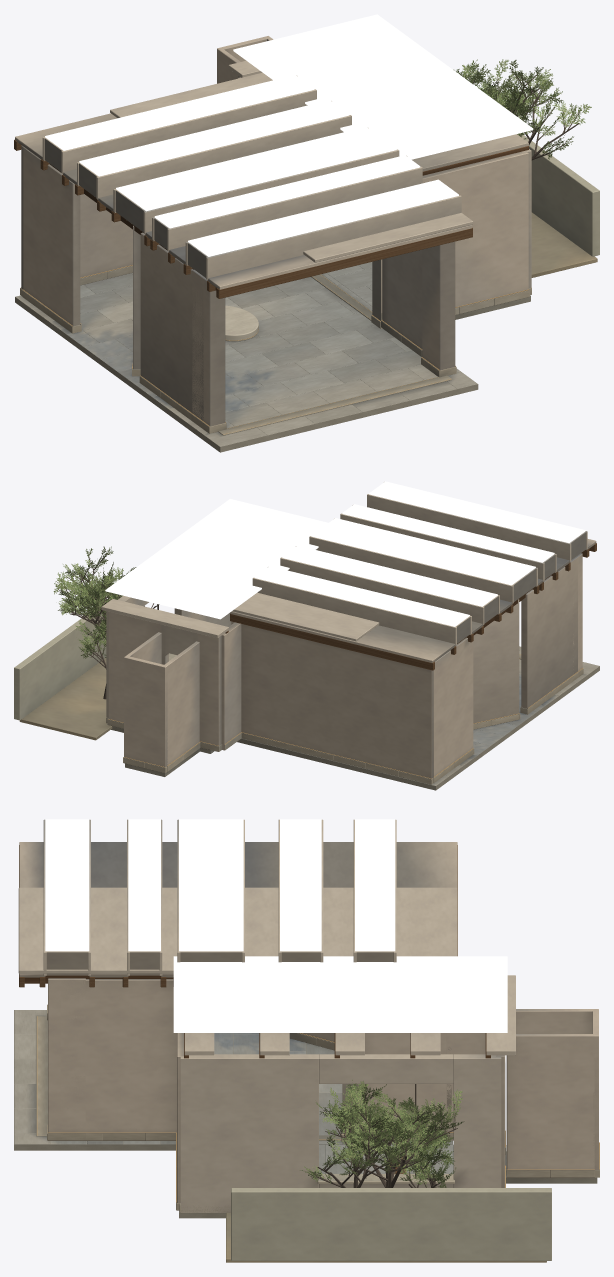
Rendered from hall.glb.
3 renders of one model, top to bottom at view 1: azimuth 30°, elevation 25°; view 2: azimuth 150°, elevation 25°; view 3: azimuth 270°, elevation 25°, orthographic. The views are drawn at different scales.
Visible parts, largest first — view 1: Lime | exhibition walls, Glazing | diffusing rooflights, Stone | flags, skirtings and sills, Ceiling | lime-lined cassettes, Garden | olive beyond window, Oak | secondary joinery, Sculpture | original oval display stone, Rafters | structural oak, Recesses | bronze and joints, Brass | ferrules and inlay; view 2: Lime | exhibition walls, Glazing | diffusing rooflights, Ceiling | lime-lined cassettes, Stone | flags, skirtings and sills, Garden | olive beyond window, Oak | secondary joinery, Recesses | bronze and joints, Brass | ferrules and inlay; view 3: Lime | exhibition walls, Glazing | diffusing rooflights, Ceiling | lime-lined cassettes, Stone | flags, skirtings and sills, Garden | olive beyond window, Recesses | bronze and joints, Rafters | structural oak.
Boxes of the visible parts, box(x1,y1,x2,y2) form: Lime | exhibition walls: box(21, 36, 599, 426); Glazing | diffusing rooflights: box(45, 14, 533, 256); Stone | flags, skirtings and sills: box(15, 262, 531, 452); Ceiling | lime-lined cassettes: box(15, 60, 528, 289); Garden | olive beyond window: box(453, 59, 591, 159); Oak | secondary joinery: box(14, 139, 472, 298); Sculpture | original oval display stone: box(225, 305, 258, 341); Rafters | structural oak: box(50, 146, 528, 290); Recesses | bronze and joints: box(72, 69, 580, 426); Brass | ferrules and inlay: box(23, 265, 528, 434); Lime | exhibition walls: box(14, 553, 582, 778); Glazing | diffusing rooflights: box(105, 481, 585, 626); Ceiling | lime-lined cassettes: box(101, 494, 596, 662); Stone | flags, skirtings and sills: box(106, 646, 599, 790); Garden | olive beyond window: box(53, 546, 136, 658); Oak | secondary joinery: box(230, 543, 596, 670); Recesses | bronze and joints: box(58, 555, 527, 784); Brass | ferrules and inlay: box(108, 658, 582, 778); Lime | exhibition walls: box(48, 978, 598, 1262); Glazing | diffusing rooflights: box(45, 819, 507, 1032); Ceiling | lime-lined cassettes: box(18, 819, 515, 1055); Stone | flags, skirtings and sills: box(14, 1004, 599, 1218); Garden | olive beyond window: box(300, 1080, 464, 1187); Recesses | bronze and joints: box(48, 1033, 594, 1187); Rafters | structural oak: box(24, 975, 490, 1058).
Bounding box in the file's own units: 15.92 × 5.45 × 14.61.
11 materials, 8 textured.
